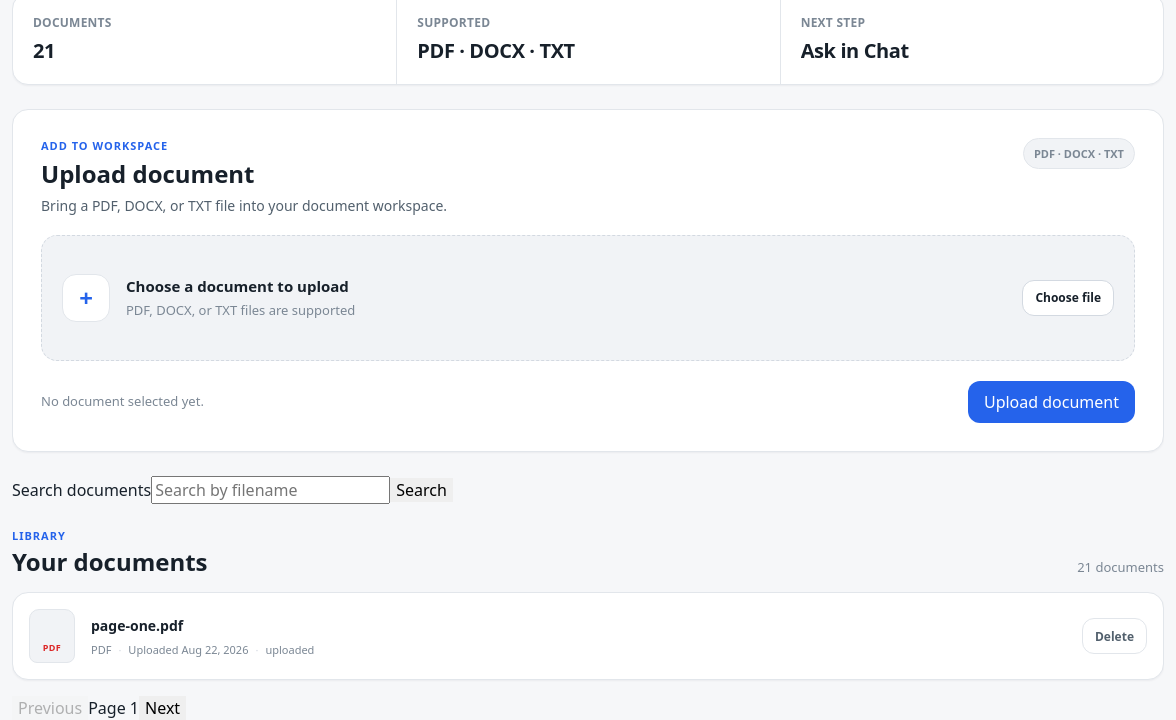
DashboardPage › loads the next page
The width and height of the screenshot is (1176, 720).
(page scrolled)
Check: the text "page-one.pdf" is shown, box [91,616,183,635]
Click the button with aria-label "Next page".
click(163, 708)  # box [139,696,186,719]
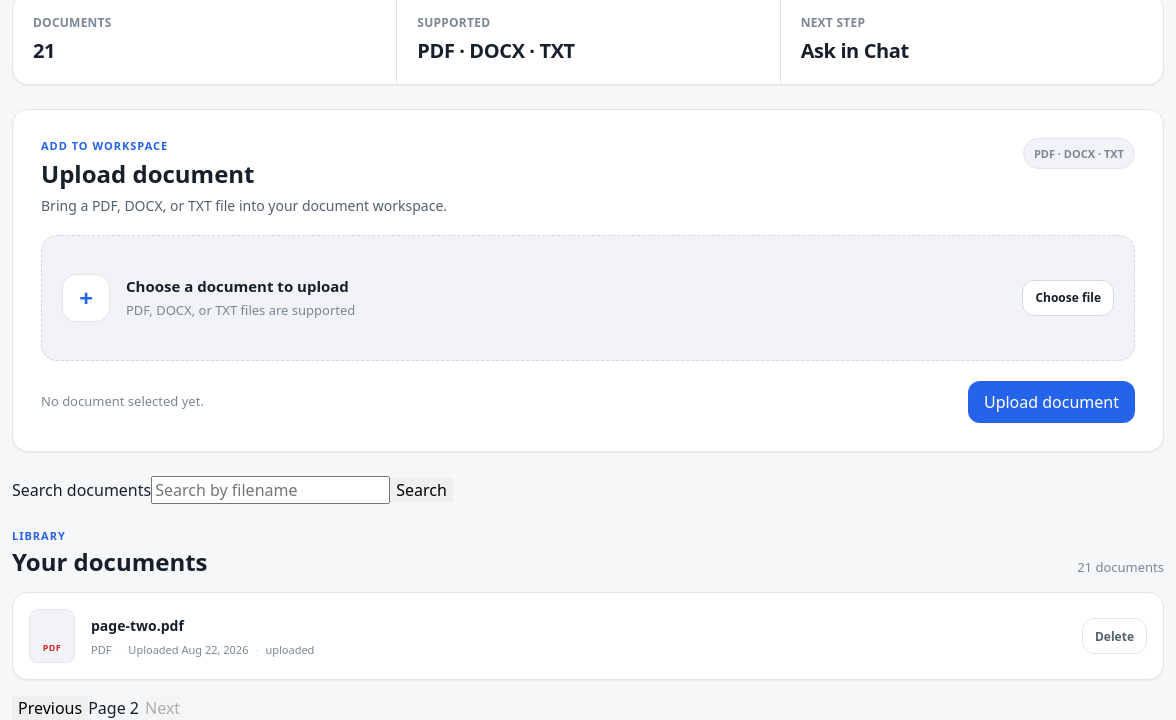
Check: the text "page-two.pdf" is shown, box [91,616,184,635]
